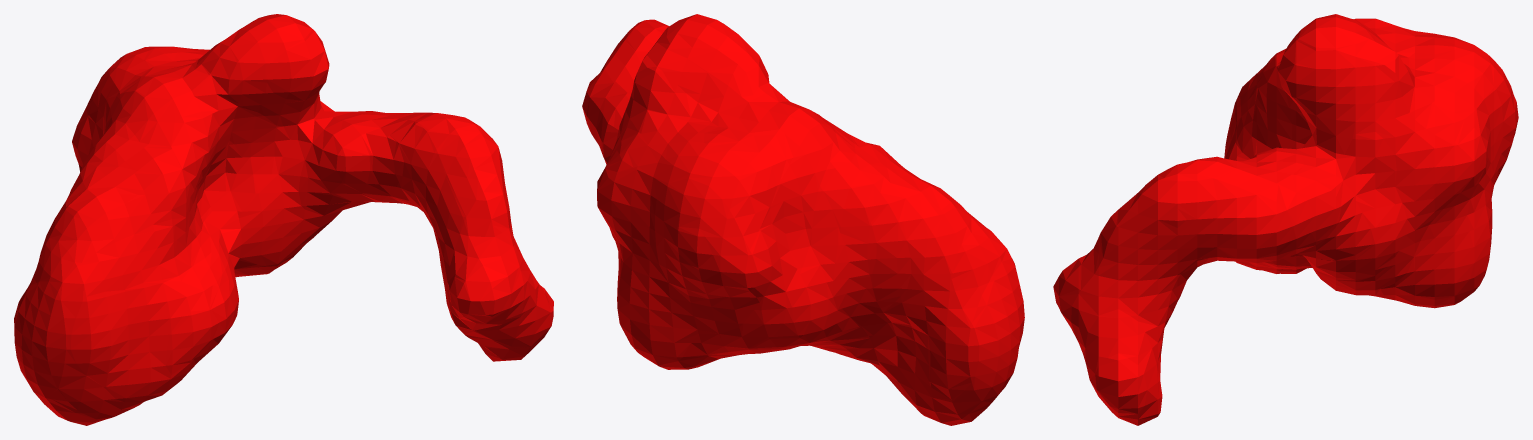
Rendered from Nucleobindin_1_coarse.dae.
3 renders of one model, left to right at view 1: azimuth 30°, elevation 25°; view 2: azimuth 150°, elevation 25°; view 3: azimuth 270°, elevation 25°, orthographic. The views are drawn at different scales.
Parts seen in each view (by area): view 1: Nucleobindin_1; view 2: Nucleobindin_1; view 3: Nucleobindin_1.
Part boxes in pixels (x1=…): Nucleobindin_1: x1=14, y1=14, x2=553, y2=425; Nucleobindin_1: x1=582, y1=14, x2=1024, y2=425; Nucleobindin_1: x1=1053, y1=14, x2=1518, y2=425.
Bounding box in the file's own units: 60.27 × 43.21 × 50.82.
